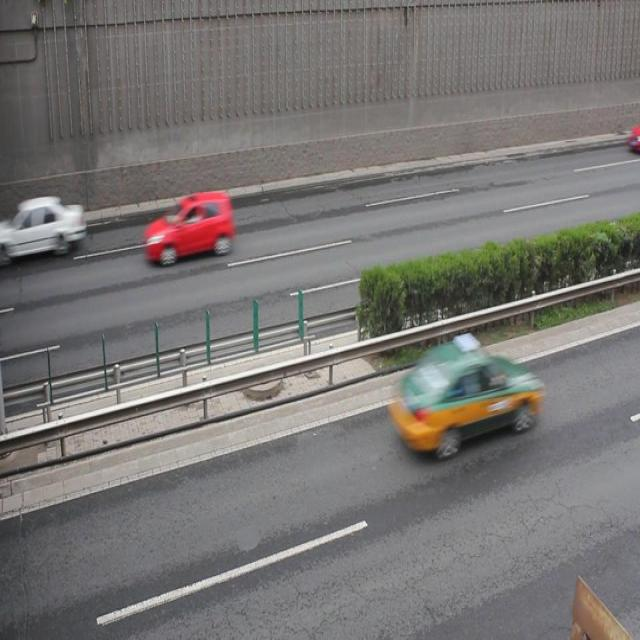car: (391, 338, 536, 455), (144, 195, 232, 261), (1, 195, 84, 259), (625, 124, 640, 147)
